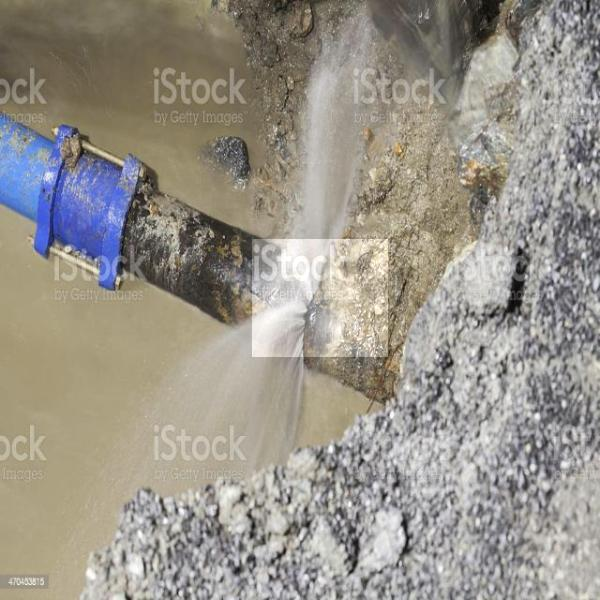water: (252, 239, 388, 357)
